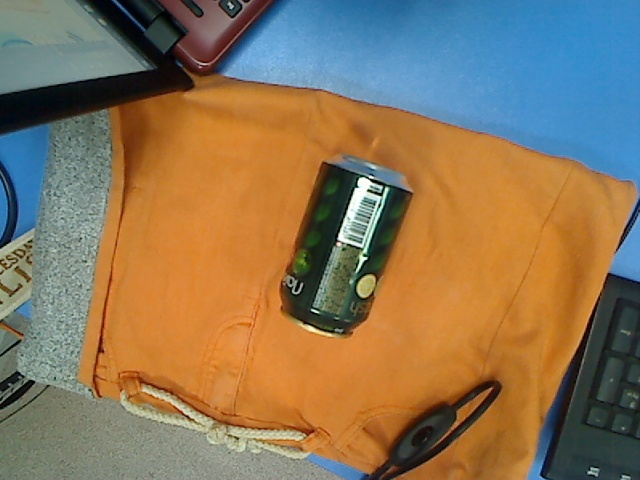can: (278, 153, 416, 341)
